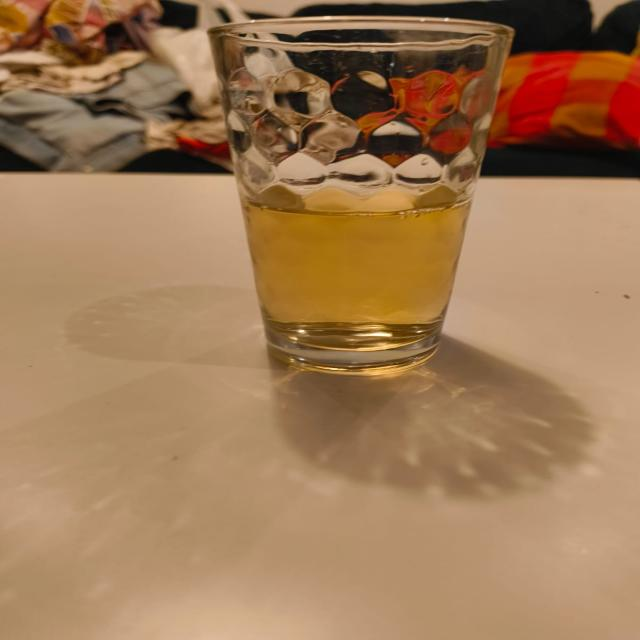filled g2: (207, 13, 517, 378)
liquid: (238, 187, 477, 350)
